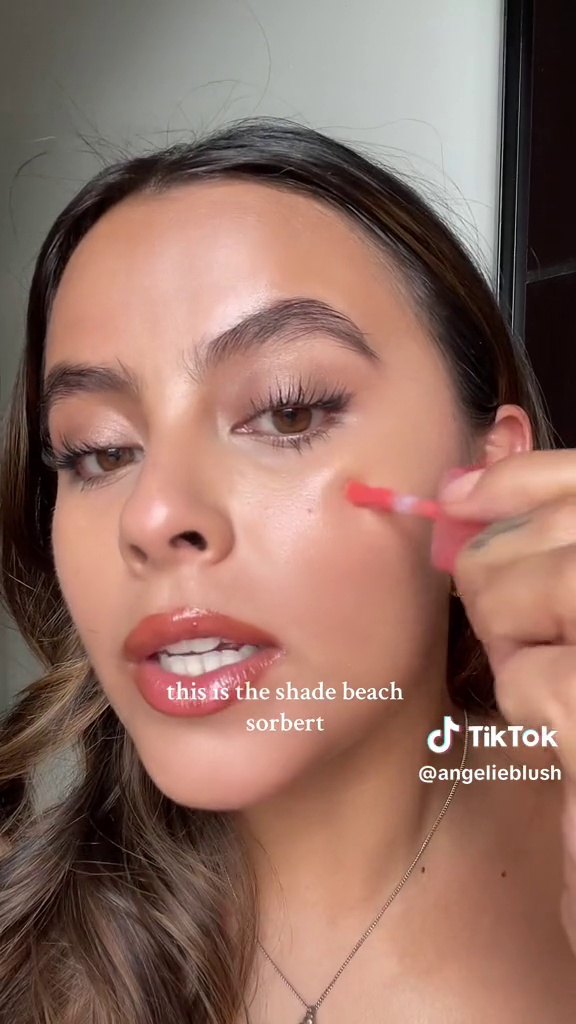train' :'yolo_data/train/images',: (333, 449, 528, 573)
